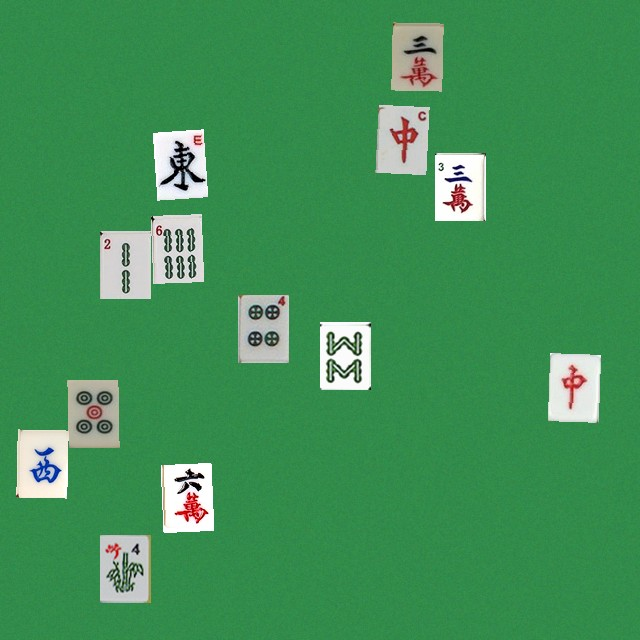tile: (160, 462, 211, 530), (152, 129, 203, 197), (375, 104, 426, 172), (237, 294, 288, 362), (99, 534, 150, 602), (67, 379, 118, 447), (391, 22, 442, 90), (99, 230, 150, 298), (434, 152, 485, 220), (547, 353, 598, 421), (16, 429, 67, 497), (150, 214, 201, 282), (319, 321, 370, 389)
